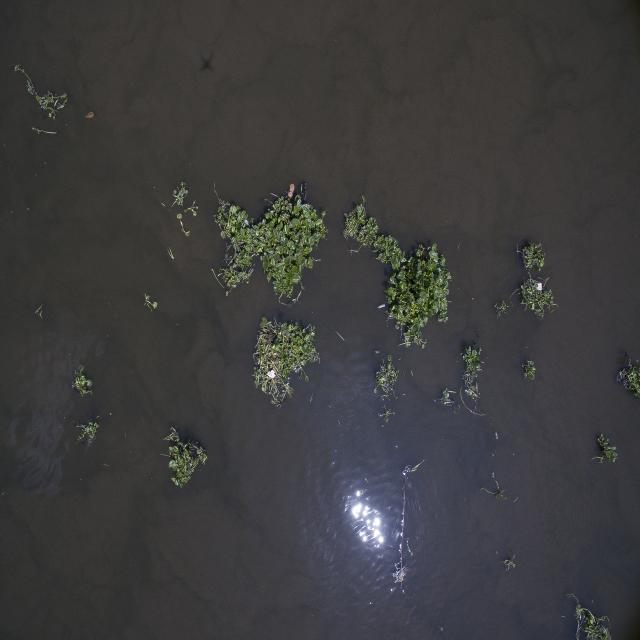plastic: (530, 276, 550, 299), (264, 366, 281, 387)
